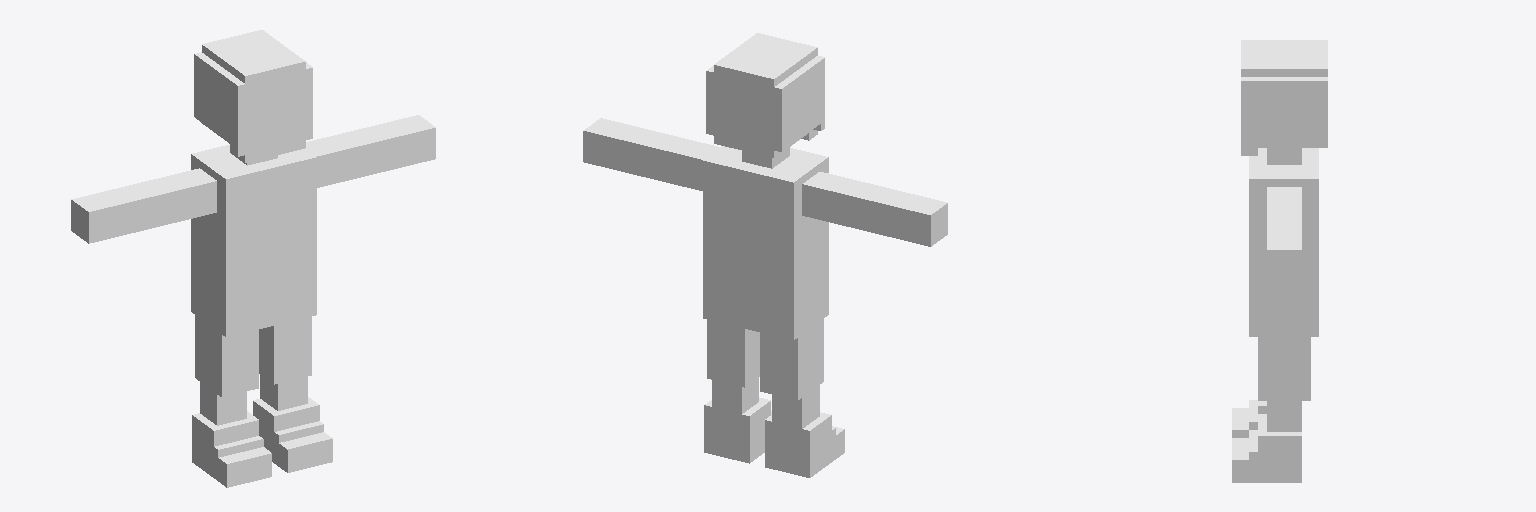
Rendered from LebronJames.obj.
3 renders of one model, left to right at view 1: azimuth 30°, elevation 25°; view 2: azimuth 150°, elevation 25°; view 3: azimuth 270°, elevation 25°, orthographic.
Parts seen in each view (by area): view 1: object 1; view 2: object 1; view 3: object 1.
Part boxes in pixels (bbox=[...]): object 1: bbox=[71, 30, 435, 487]; object 1: bbox=[583, 33, 947, 477]; object 1: bbox=[1232, 40, 1327, 482].
Size of the model in its own units: 4.6 by 5.1 by 1.1.